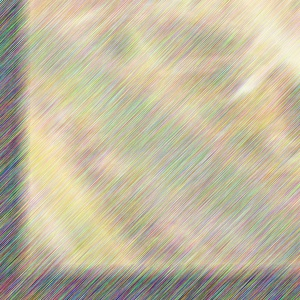Leaf_Blast: (48, 28, 125, 124), (23, 160, 85, 263)
